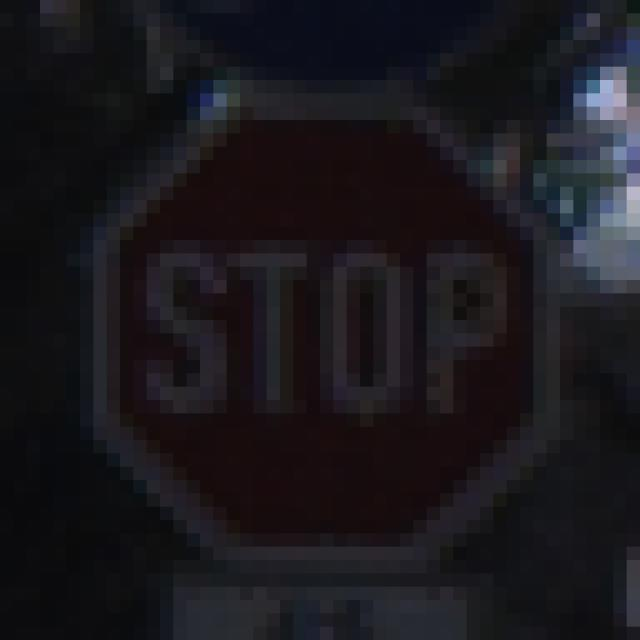STOP: (68, 68, 574, 574)
